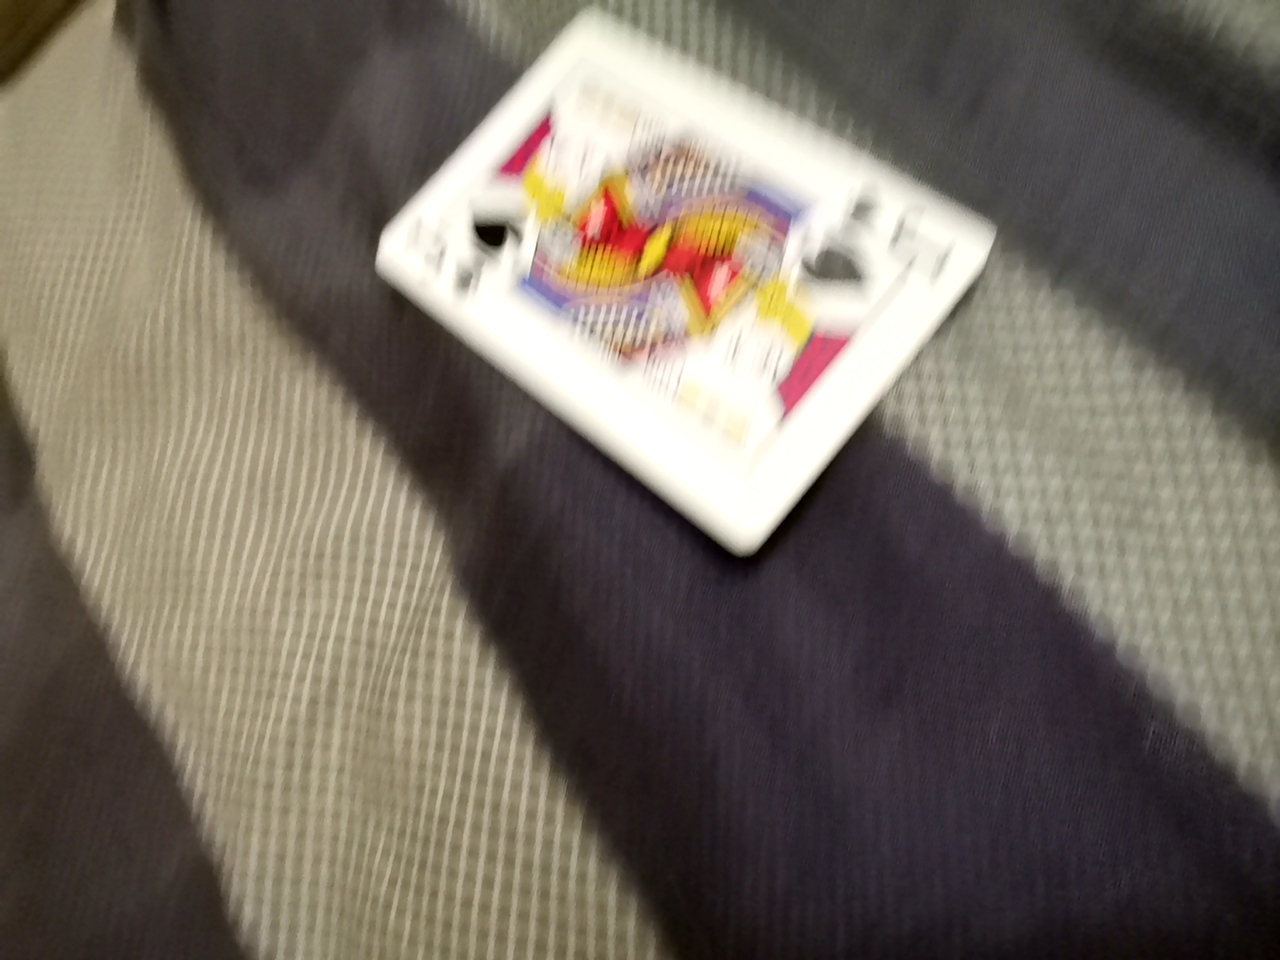ht j: (352, 38, 958, 505)
